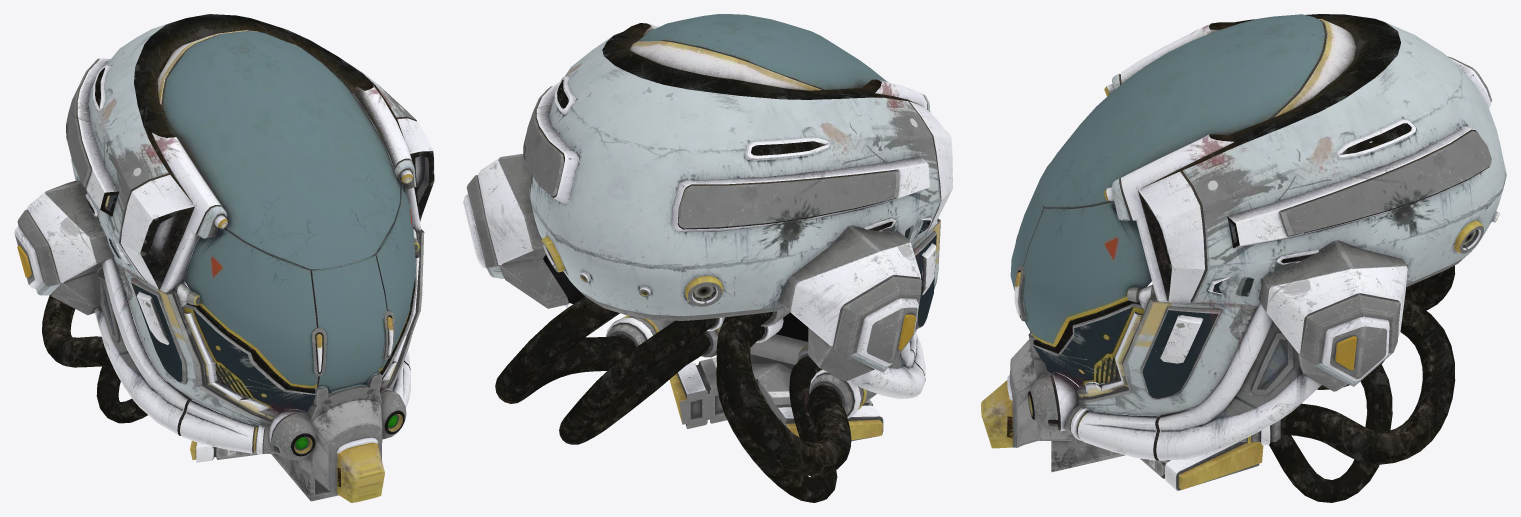
Rendered from DamagedHelmet.glb.
3 views of the same model, side by side, from view 1: azimuth 30°, elevation 25°; view 2: azimuth 150°, elevation 25°; view 3: azimuth 270°, elevation 25° (orthographic). The views are drawn at different scales.
Visible parts, largest first — view 1: node_damagedHelmet_-6514; view 2: node_damagedHelmet_-6514; view 3: node_damagedHelmet_-6514.
Boxes of the visible parts, bbox=[...] form: node_damagedHelmet_-6514: bbox=[14, 14, 434, 502]; node_damagedHelmet_-6514: bbox=[463, 14, 952, 502]; node_damagedHelmet_-6514: bbox=[981, 14, 1506, 502].
Size of the model in its own units: 1.89 by 1.8 by 2.
1 material, 1 textured.
